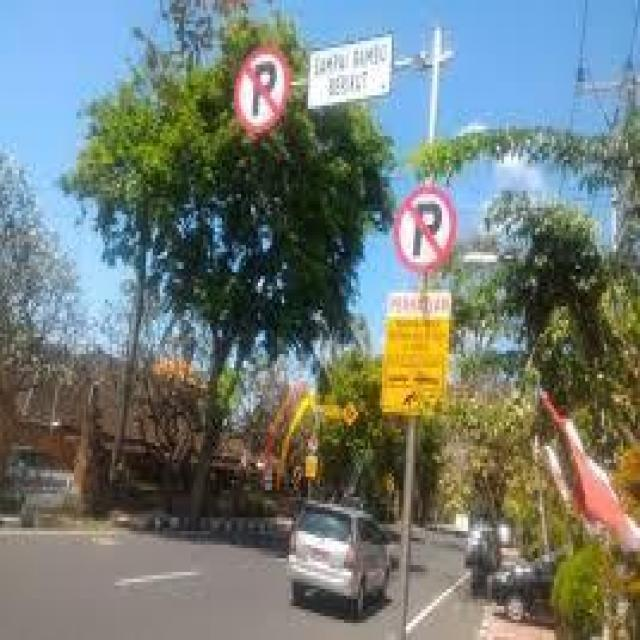traffic sign: (394, 184, 456, 272), (234, 48, 289, 140)
